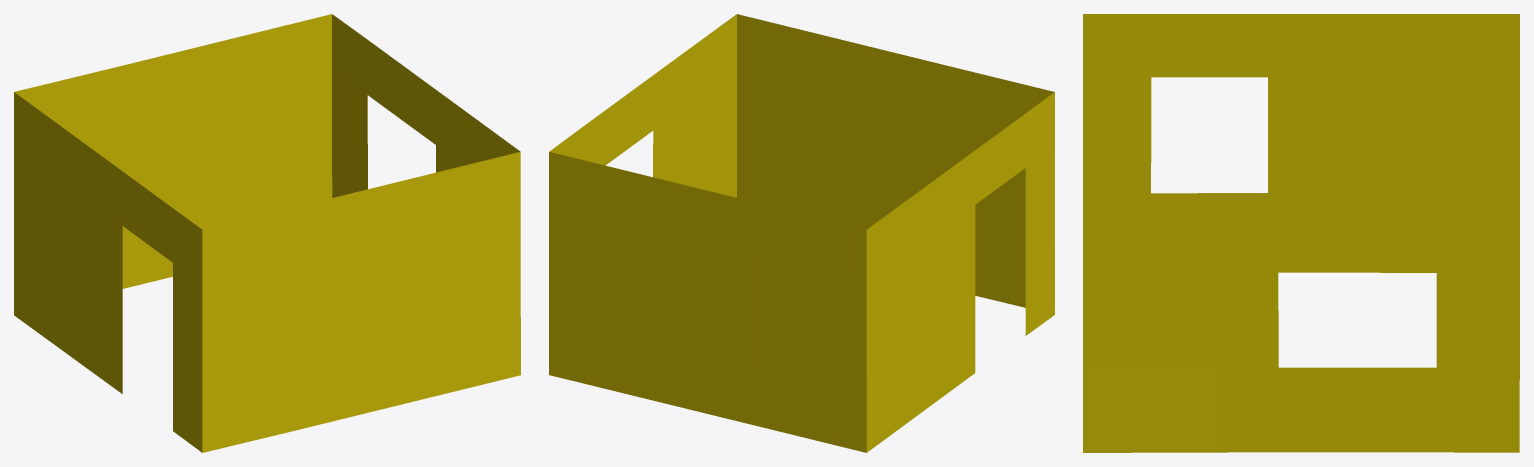
The picture shows the model from 3 angles, left to right: view 1: azimuth 30°, elevation 25°; view 2: azimuth 150°, elevation 25°; view 3: azimuth 270°, elevation 25°; orthographic projection. The views are drawn at different scales.
Visible parts, largest first — view 1: BH04_WP_01; view 2: BH04_WP_01; view 3: BH04_WP_01.
Part boxes in pixels (left/top/right/bottom): BH04_WP_01: left=14, top=14, right=520, bottom=452; BH04_WP_01: left=549, top=14, right=1054, bottom=452; BH04_WP_01: left=1083, top=14, right=1519, bottom=452.
Bounding box in the file's own units: 447 × 301 × 458.
